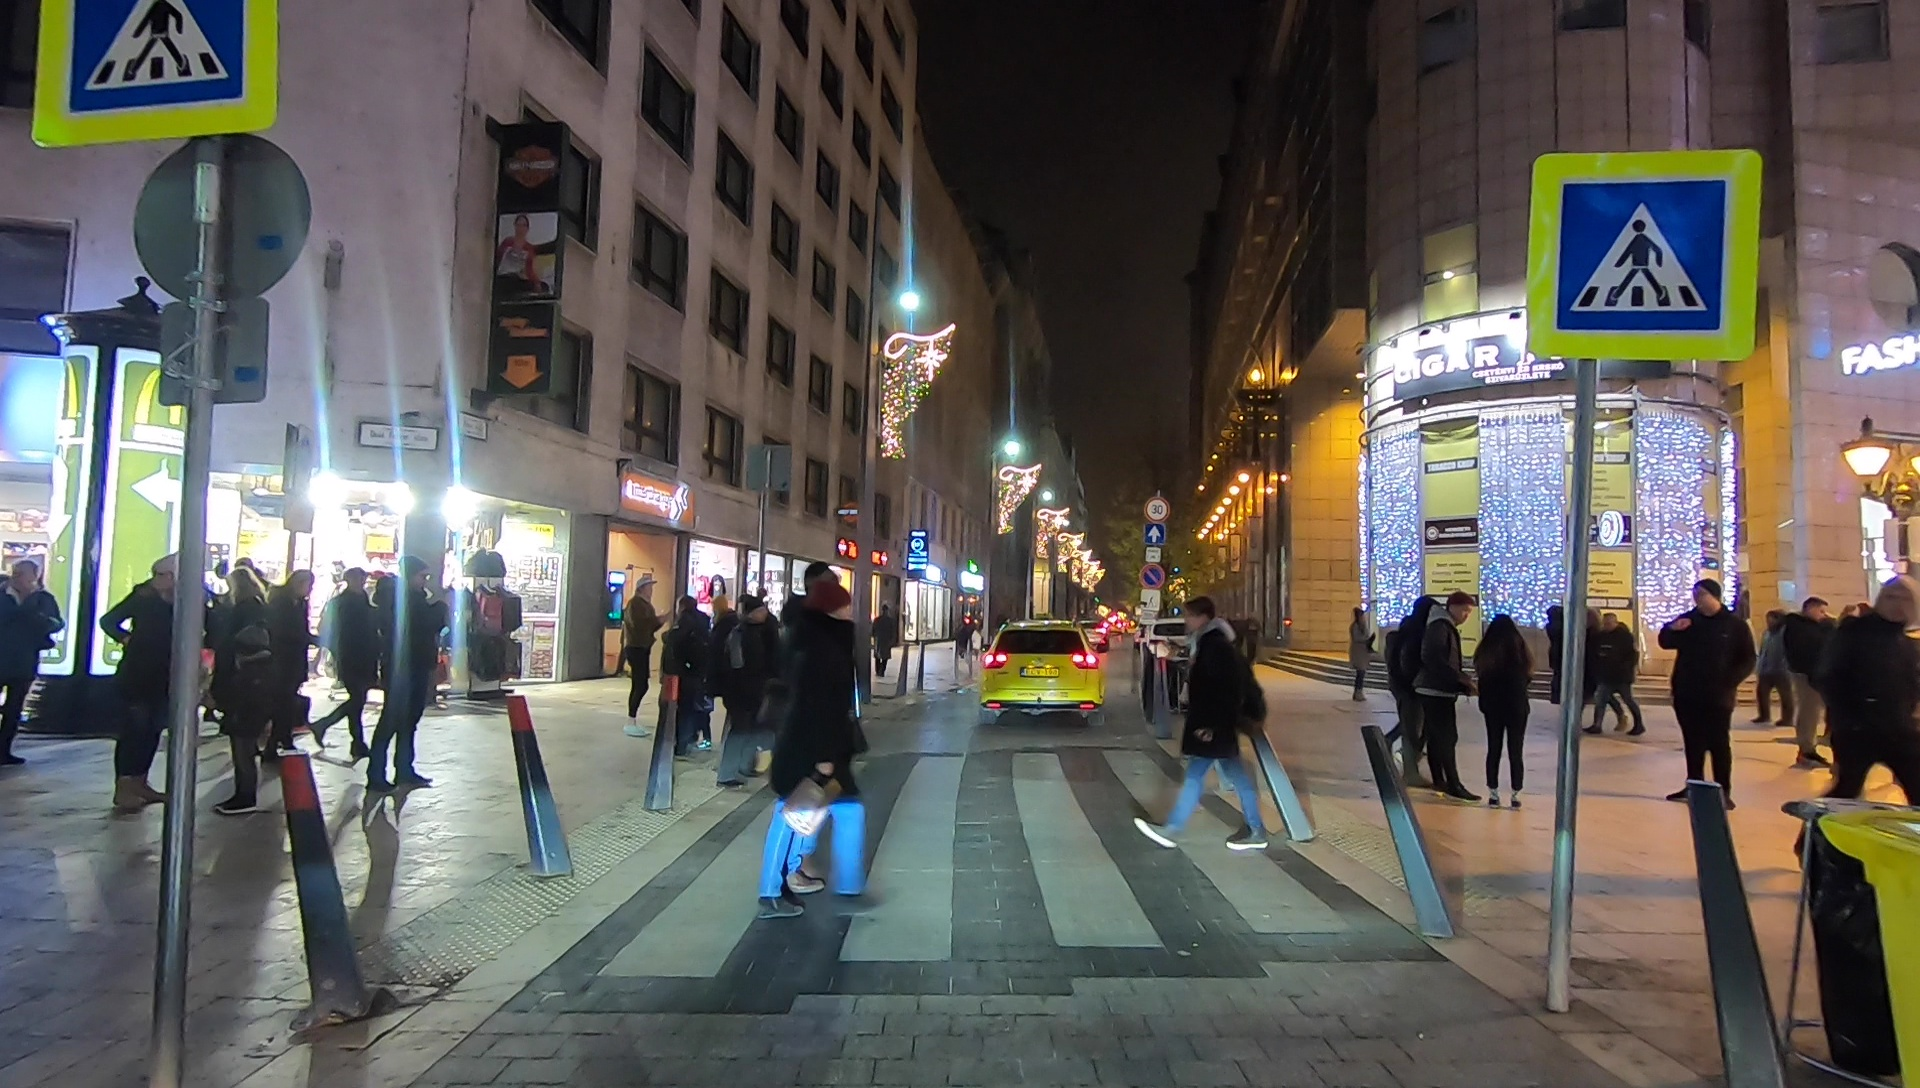person: (760, 582, 873, 932), (1141, 587, 1275, 858), (95, 552, 189, 813), (1660, 569, 1758, 813), (1830, 573, 1920, 823), (367, 554, 443, 795), (1471, 608, 1539, 817), (1, 560, 67, 766), (314, 563, 380, 763), (212, 576, 265, 821), (708, 599, 764, 793), (1386, 591, 1439, 782), (1432, 591, 1473, 813), (267, 563, 308, 763), (619, 567, 660, 745), (1791, 597, 1828, 776), (1599, 611, 1645, 745), (669, 597, 706, 749), (1762, 604, 1791, 728), (1541, 599, 1567, 706), (1347, 602, 1371, 704), (871, 599, 897, 680)
